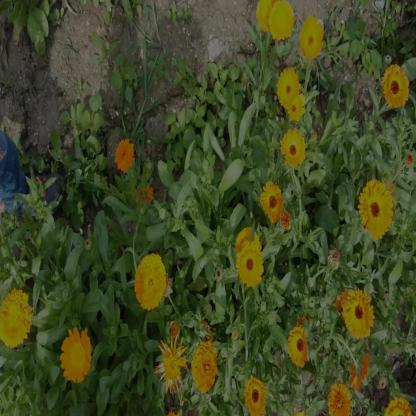marigold: (358, 181, 392, 240), (134, 253, 166, 311), (60, 326, 90, 382), (2, 292, 32, 346), (341, 289, 372, 339), (158, 330, 184, 383), (238, 241, 264, 288), (233, 223, 260, 267), (192, 344, 216, 391), (382, 64, 408, 107), (281, 127, 306, 168), (260, 179, 283, 222), (270, 0, 294, 41), (300, 18, 324, 58), (277, 68, 299, 107), (348, 351, 370, 389), (328, 382, 353, 412), (245, 378, 266, 413), (133, 175, 155, 208), (290, 325, 308, 365), (256, 0, 277, 34), (286, 86, 305, 122), (112, 139, 133, 171)
